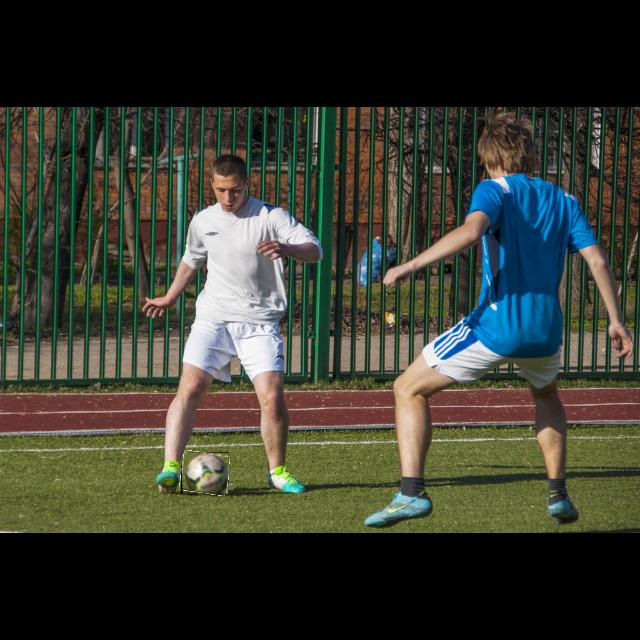Football: (181, 452, 229, 494)
